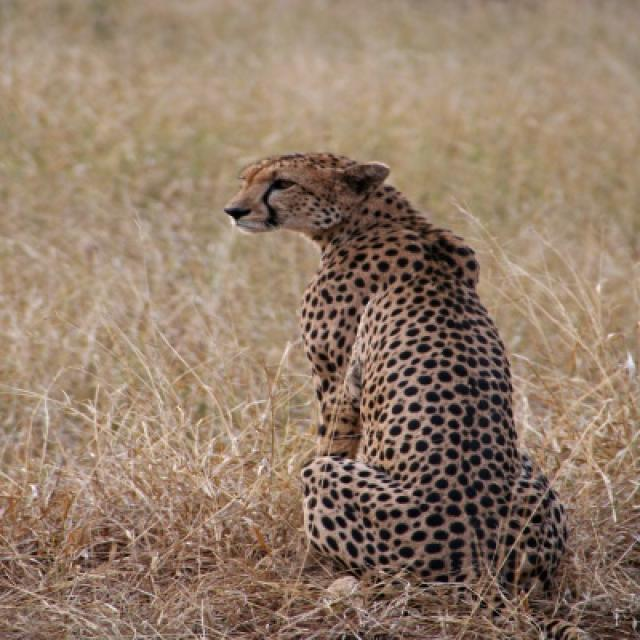Cheetah: (224, 154, 568, 610)
